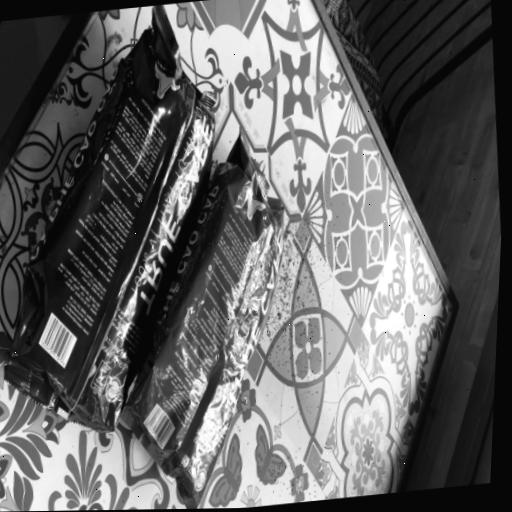cafe_hat: (4, 5, 214, 432)
cafe_xay: (120, 132, 284, 509)
